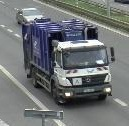truck: (22, 18, 114, 104)
